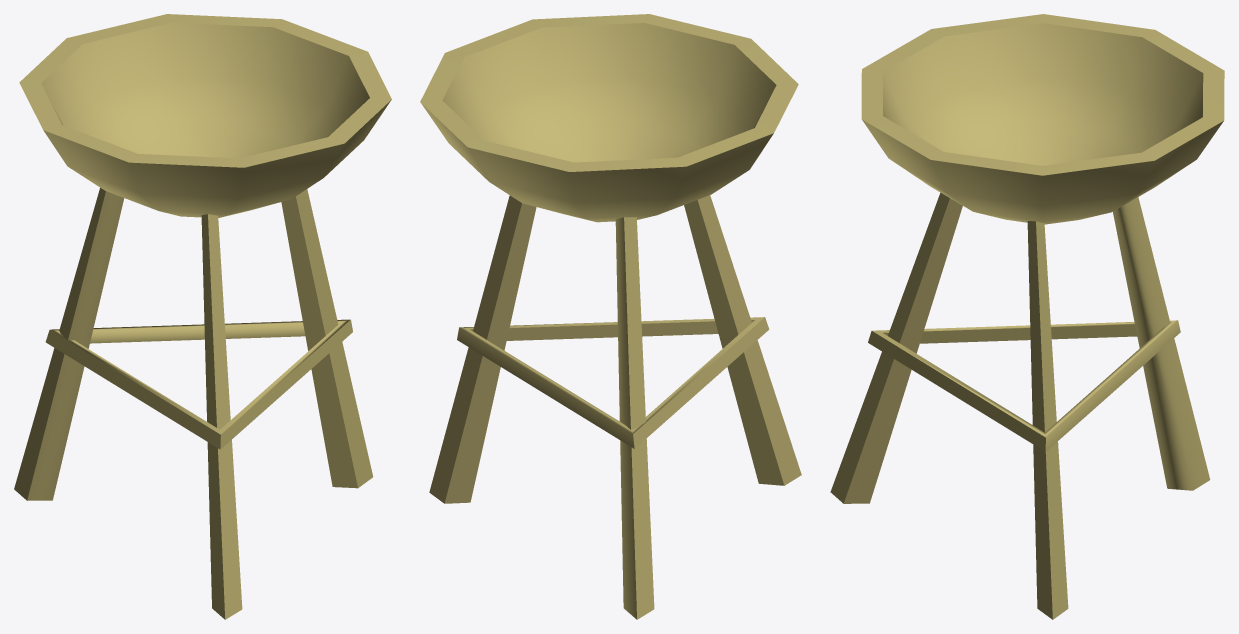
Rendered from Lamp_1.fbx.
3 renders of one model, left to right at view 1: azimuth 30°, elevation 25°; view 2: azimuth 150°, elevation 25°; view 3: azimuth 270°, elevation 25°, orthographic.
Visible parts, largest first — view 1: Lamp_1; view 2: Lamp_1; view 3: Lamp_1.
Part boxes in pixels (x1,y1,x2,y2): Lamp_1: (14, 14, 391, 619); Lamp_1: (420, 14, 801, 619); Lamp_1: (830, 14, 1224, 619).
Size of the model in its own units: 79.46 by 98.12 by 79.59.
